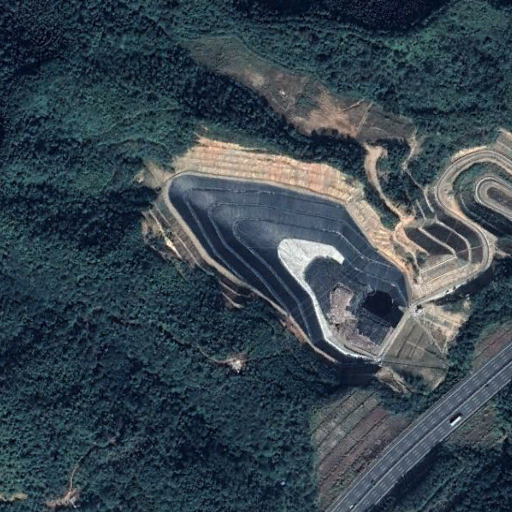lf: (164, 171, 409, 360)
